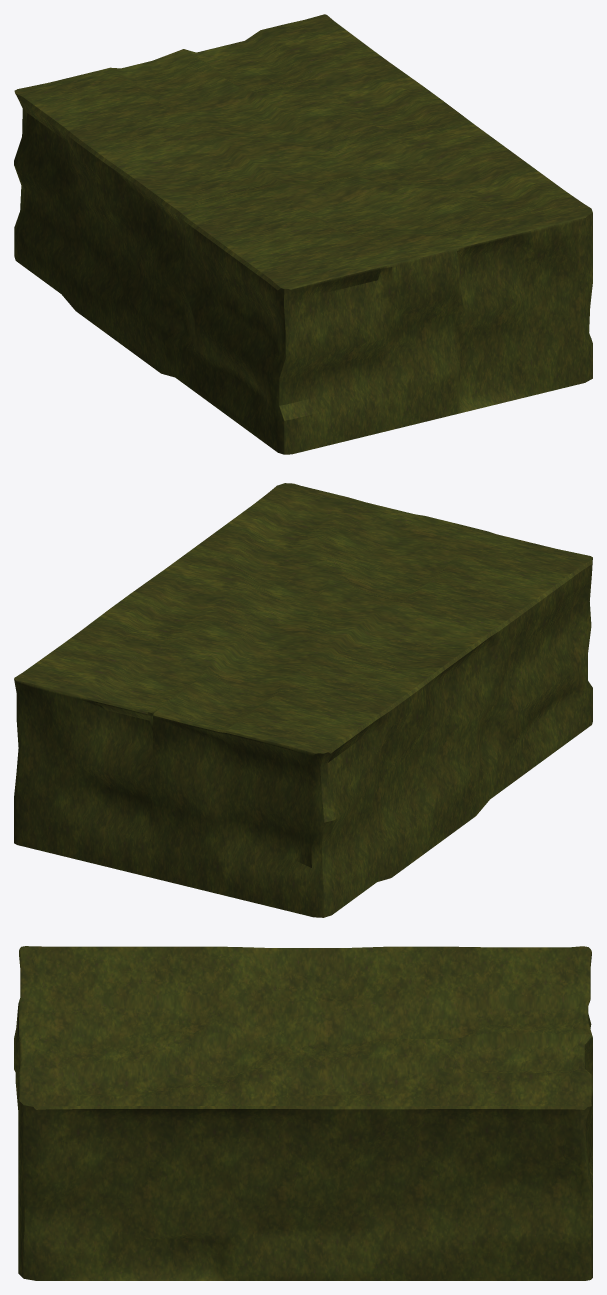
Rendered from bush.fbx.
3 renders of one model, top to bottom at view 1: azimuth 30°, elevation 25°; view 2: azimuth 150°, elevation 25°; view 3: azimuth 270°, elevation 25°, orthographic. The views are drawn at different scales.
Visible parts, largest first — view 1: pCube1; view 2: pCube1; view 3: pCube1.
Part boxes in pixels (<box>): pCube1: <box>14,14,592,454</box>; pCube1: <box>14,483,592,917</box>; pCube1: <box>14,946,592,1280</box>.
Size of the model in its own units: 8.06 by 4.16 by 12.09.
